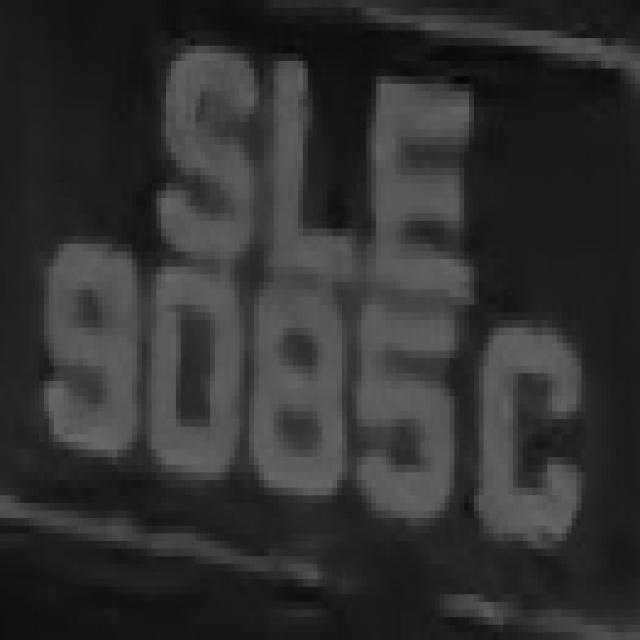0: (147, 252, 244, 510)
5: (342, 252, 459, 548)
8: (234, 252, 347, 518)
9: (34, 198, 142, 457)
C: (474, 274, 586, 572)
E: (357, 61, 474, 297)
L: (259, 31, 371, 297)
S: (156, 31, 259, 274)
